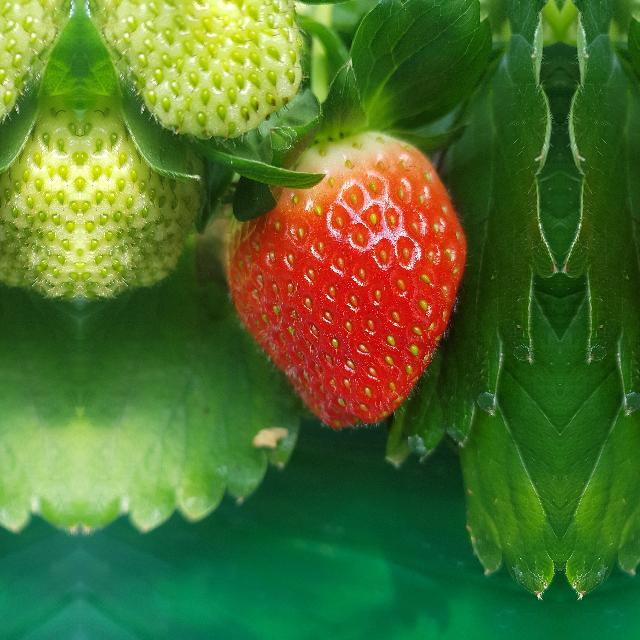Health_100: (222, 130, 468, 430)
